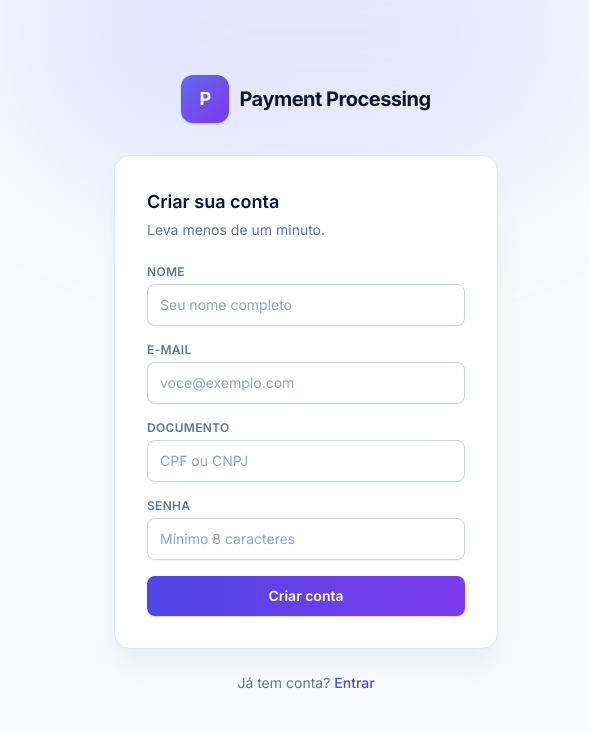
RegisterView › shows the server error and stays on the page when registration fails
This screenshot has width=589, height=732.
Type "taken@example.com" into the field with placeholder "voce@exemplo.com". click: (306, 383)
box: top-left (147, 362), bottom-right (465, 404)
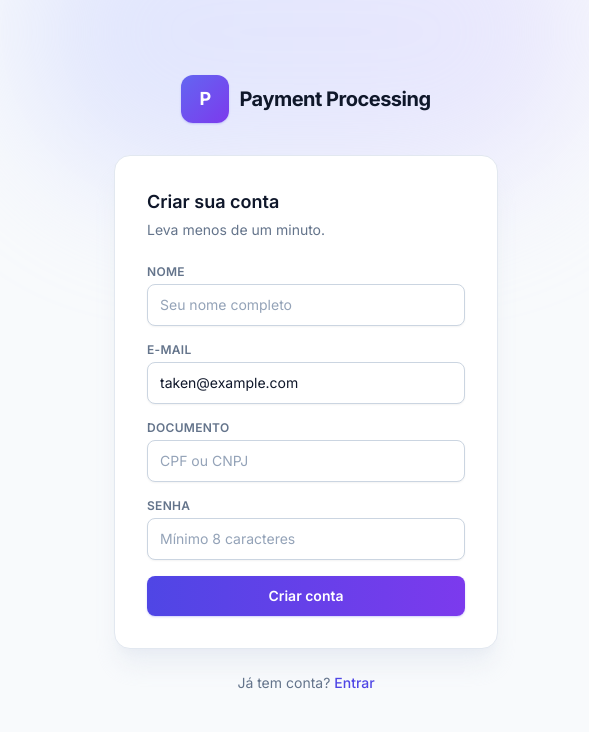
Type "password123" into the password field with placeholder "Mínimo 8 caracteres". click: (306, 539)
box: top-left (147, 518), bottom-right (465, 560)
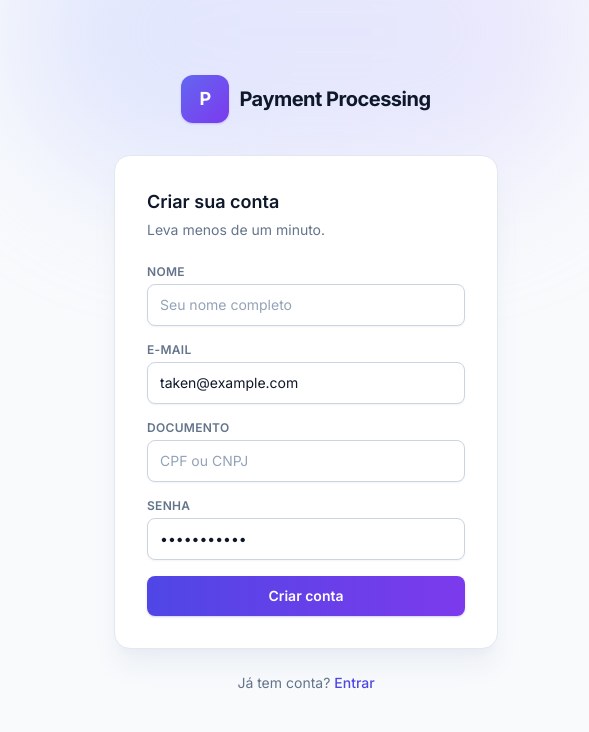
Submit the form, box top-left (147, 264), bottom-right (465, 616)
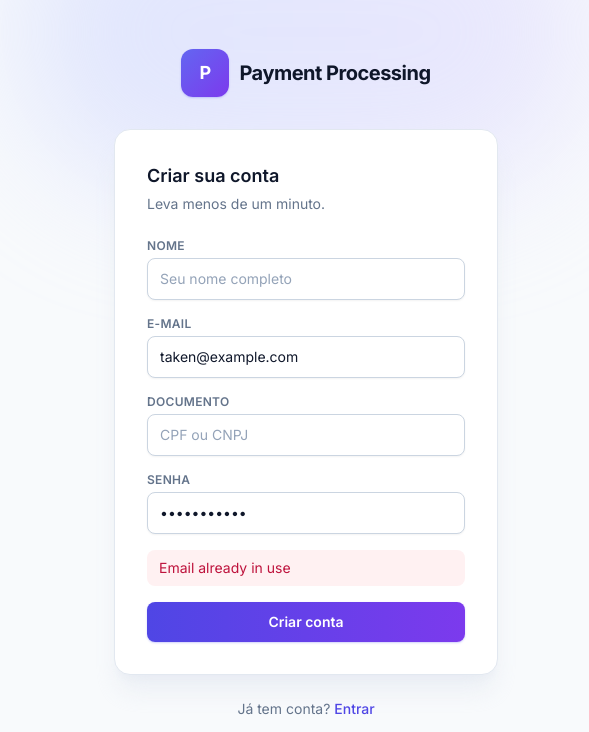
Check: the text "Email already in use" is shown, box top-left (147, 550), bottom-right (465, 586)
